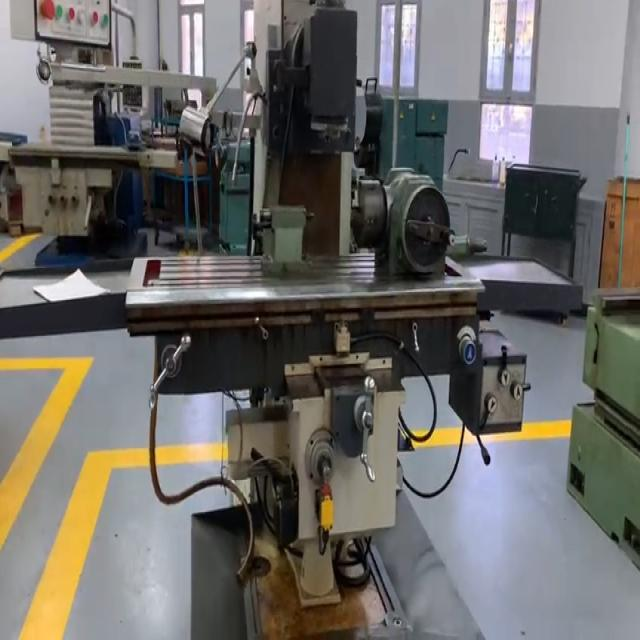fraiseuse: (125, 1, 528, 640)
